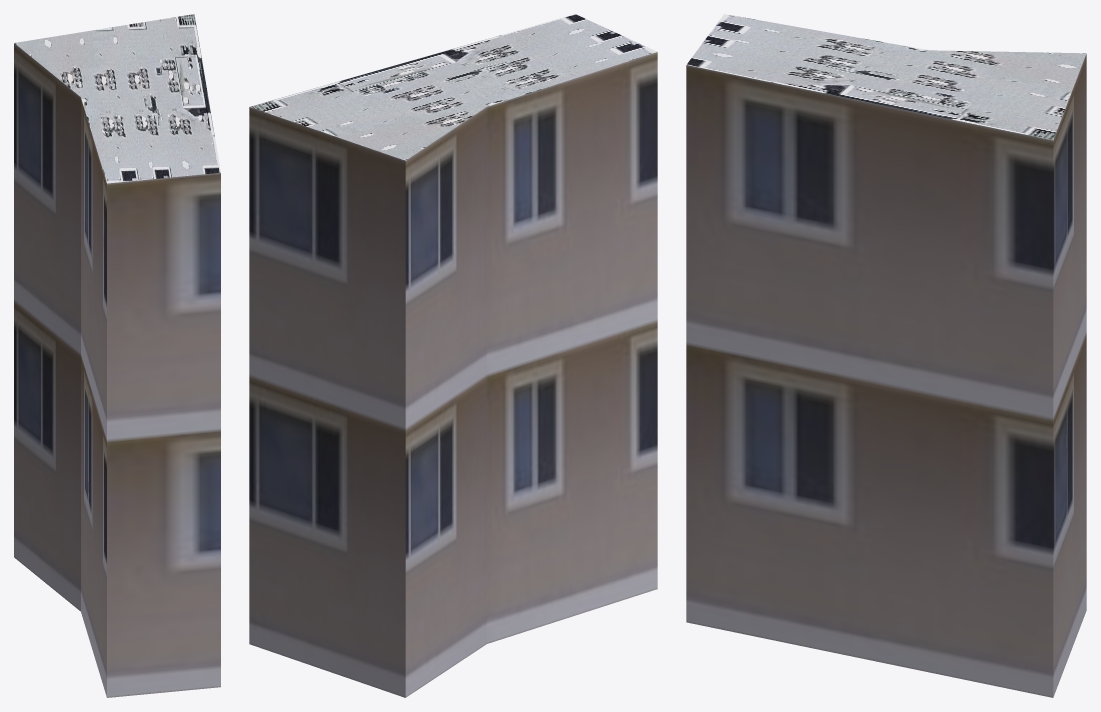
Rendered from ResTex__5082.fbx.
The picture shows the model from 3 angles, left to right: view 1: azimuth 30°, elevation 25°; view 2: azimuth 150°, elevation 25°; view 3: azimuth 270°, elevation 25°; orthographic projection. The views are drawn at different scales.
Parts seen in each view (by area): view 1: CityEngineMaterial_21_m, CityEngineMaterial_4_m; view 2: CityEngineMaterial_21_m, CityEngineMaterial_4_m; view 3: CityEngineMaterial_21_m, CityEngineMaterial_4_m.
Boxes of the visible parts, left/top/right/bottom form: CityEngineMaterial_21_m: left=14, top=43, right=220, bottom=697; CityEngineMaterial_4_m: left=14, top=14, right=220, bottom=183; CityEngineMaterial_21_m: left=249, top=52, right=657, bottom=697; CityEngineMaterial_4_m: left=250, top=14, right=657, bottom=160; CityEngineMaterial_21_m: left=686, top=54, right=1086, bottom=697; CityEngineMaterial_4_m: left=686, top=14, right=1086, bottom=140.
Bounding box in the file's own units: 2.92 × 6 × 3.9.
2 materials, 2 textured.
